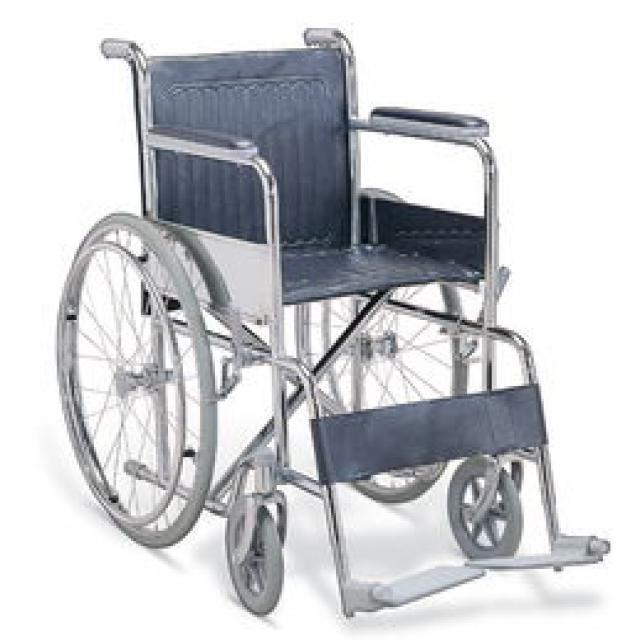wheelchairs: (54, 29, 614, 616)
